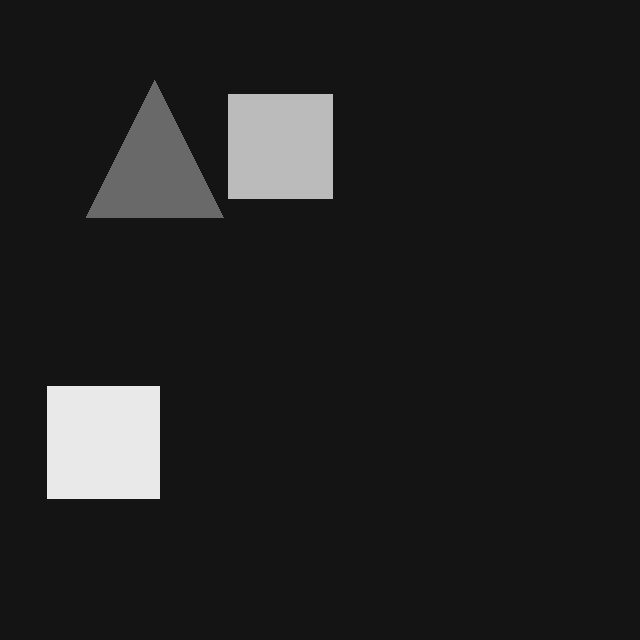square: (47, 386, 159, 498), (228, 94, 332, 198)
triangle: (86, 80, 223, 217)
